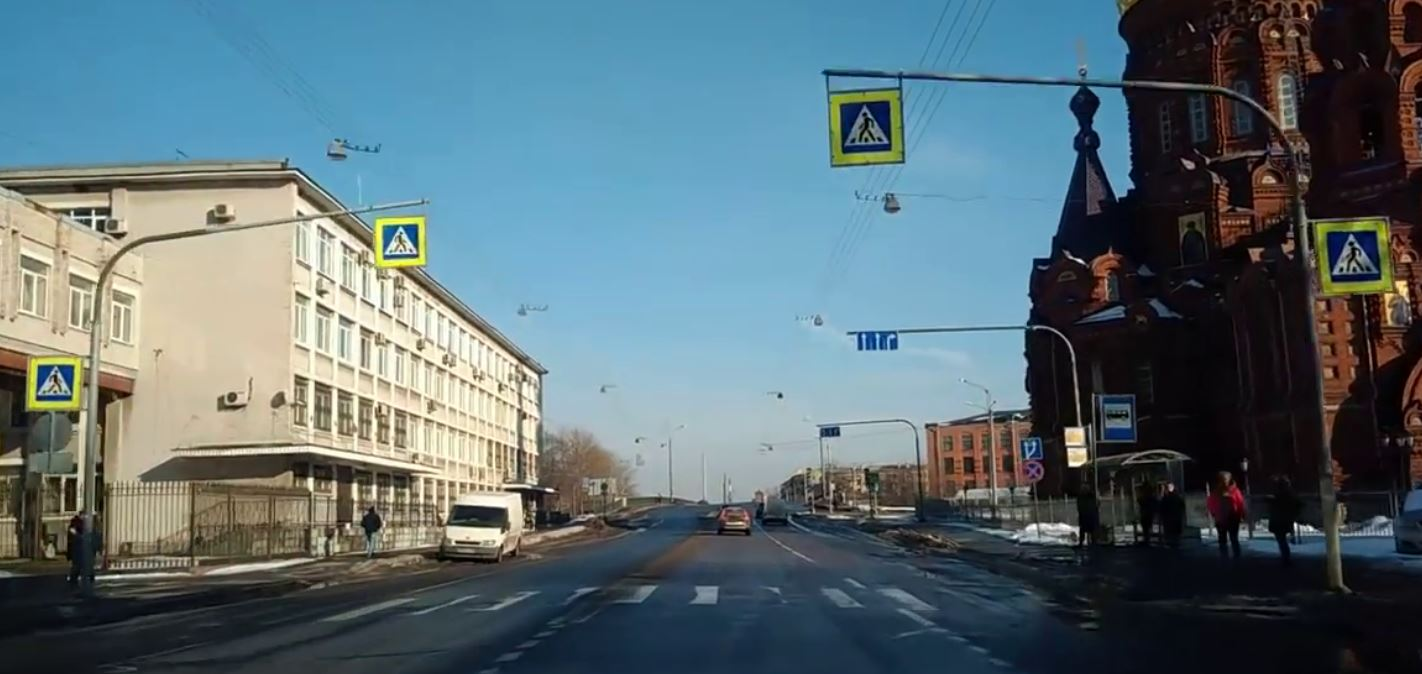Yaya Gecidi: (1328, 230, 1385, 284), (841, 99, 891, 156), (34, 365, 75, 402), (380, 224, 417, 257)
